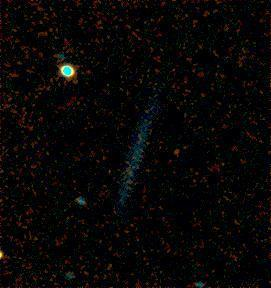star: (164, 137, 194, 167)
